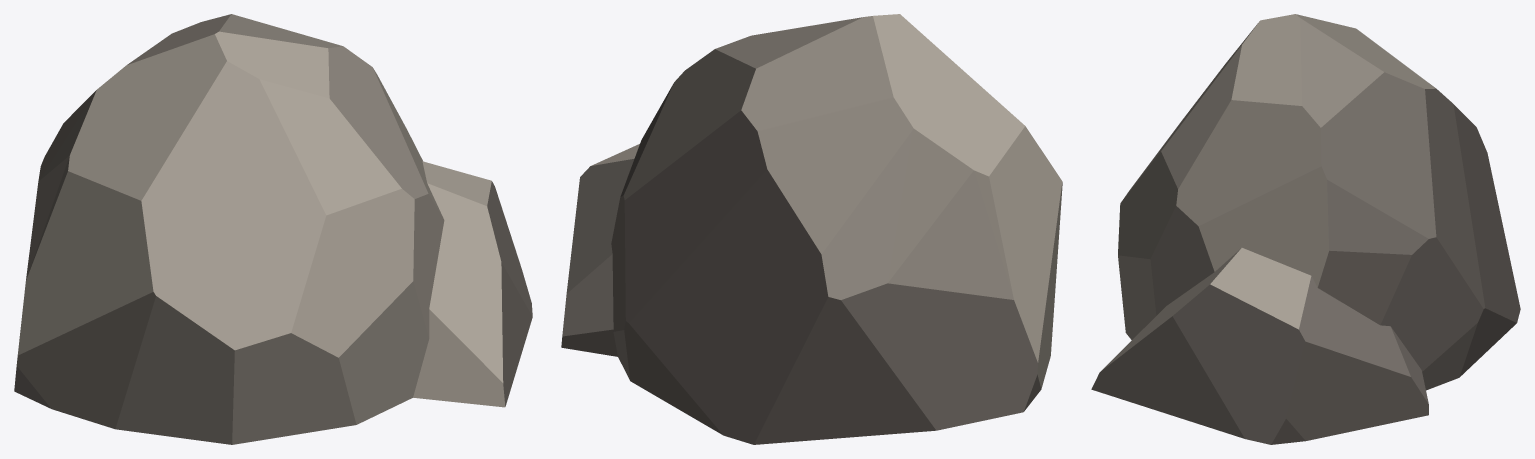
File: FMS_Rock_M.fbx
3 views of the same model, side by side, from view 1: azimuth 30°, elevation 25°; view 2: azimuth 150°, elevation 25°; view 3: azimuth 270°, elevation 25° (orthographic). The views are drawn at different scales.
Visible parts, largest first — view 1: FMS_Rock_M; view 2: FMS_Rock_M; view 3: FMS_Rock_M.
Part boxes in pixels (x1=…): FMS_Rock_M: x1=14, y1=14, x2=532, y2=444; FMS_Rock_M: x1=561, y1=14, x2=1062, y2=444; FMS_Rock_M: x1=1091, y1=14, x2=1520, y2=444.
Bounding box in the file's own units: 0.7 × 0.46 × 0.6.
